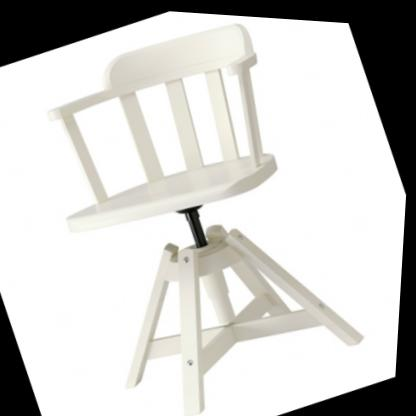Chair: (4, 1, 394, 416)
